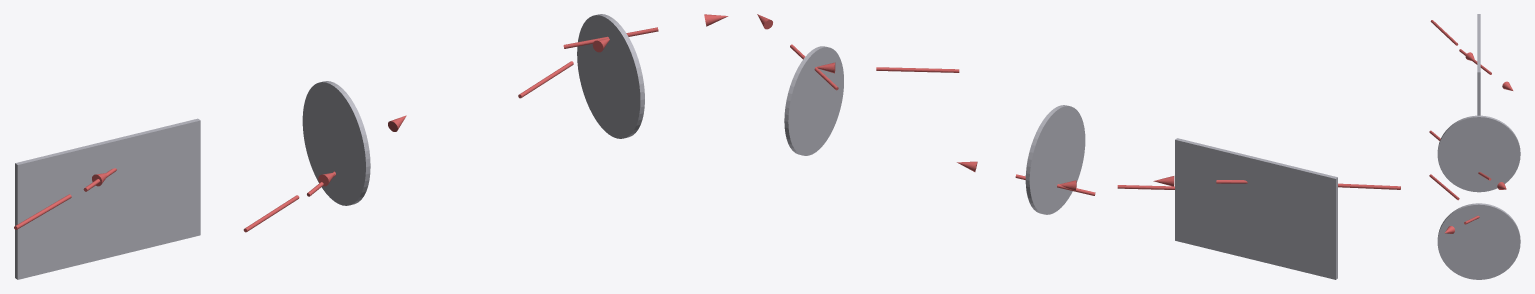
File: reflection_mirrors.glb
The picture shows the model from 3 angles, left to right: view 1: azimuth 30°, elevation 25°; view 2: azimuth 150°, elevation 25°; view 3: azimuth 270°, elevation 25°; orthographic projection. The views are drawn at different scales.
Parts seen in each view (by area): view 1: world; view 2: world; view 3: world.
Boxes of the visible parts, x1=… form: world: x1=14, y1=14, x2=728, y2=279; world: x1=757, y1=14, x2=1400, y2=279; world: x1=1429, y1=14, x2=1520, y2=279.
Bounding box in the file's own units: 7.91 × 1.22 × 1.32.
